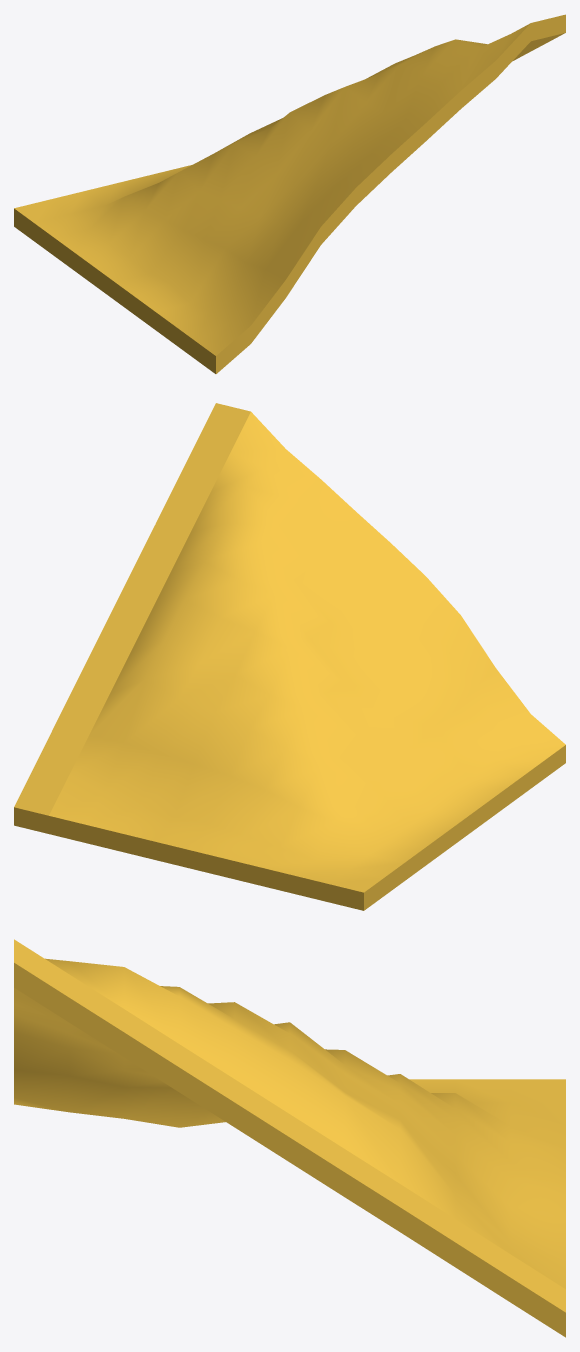
Rendered from Steil - Mitte - Ecke x - b.fbx.
The picture shows the model from 3 angles, top to bottom: view 1: azimuth 30°, elevation 25°; view 2: azimuth 150°, elevation 25°; view 3: azimuth 270°, elevation 25°; orthographic projection. The views are drawn at different scales.
Visible parts, largest first — view 1: Steil - Mitte - Ecke x - b; view 2: Steil - Mitte - Ecke x - b; view 3: Steil - Mitte - Ecke x - b.
Part boxes in pixels (x1,y1,x2,y2): Steil - Mitte - Ecke x - b: (14, 14, 565, 373); Steil - Mitte - Ecke x - b: (14, 403, 565, 910); Steil - Mitte - Ecke x - b: (14, 939, 565, 1337).
Bounding box in the file's own units: 394 × 295 × 394.
